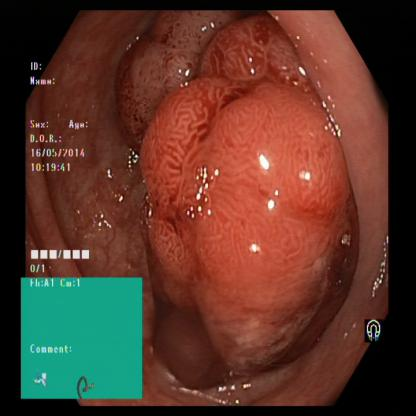Labels: (27, 55, 95, 276), (22, 274, 143, 396)
Polyps: (198, 119, 334, 342), (129, 60, 219, 190)
